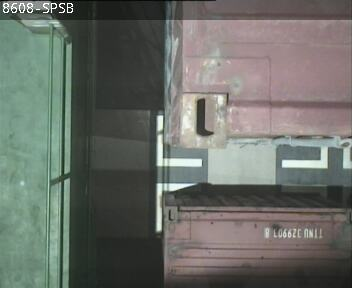groundmarker_1: (153, 113, 201, 234)
